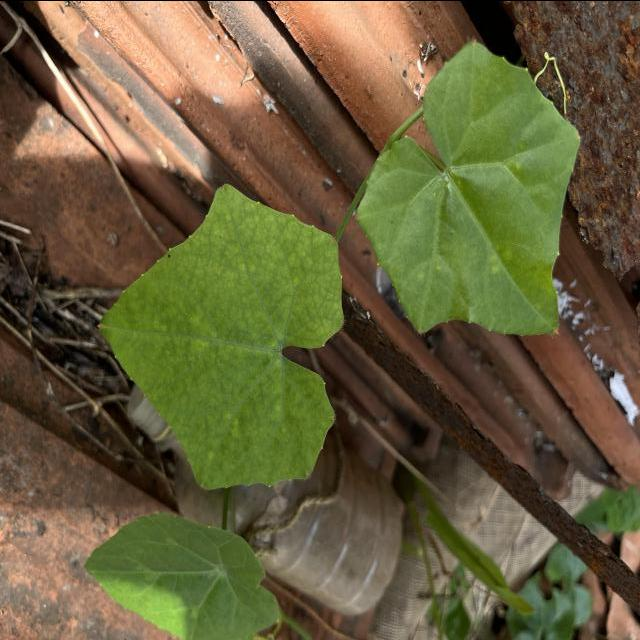Coccinia grandis: (95, 178, 348, 491), (352, 35, 584, 339)
